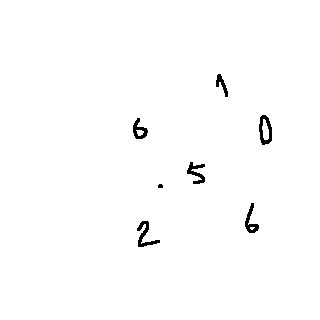.: (154, 183, 169, 195)
0: (253, 108, 281, 157)
1: (210, 67, 234, 103)
2: (133, 209, 168, 255)
5: (177, 160, 213, 193)
6: (234, 194, 267, 236), (130, 111, 157, 152)
